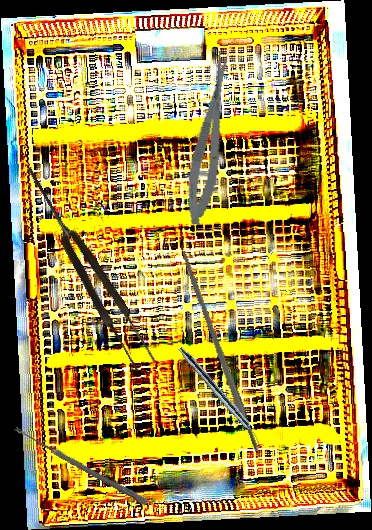Handpiece: (175, 345, 265, 446)
Micro Scissor: (179, 49, 242, 227)
Scalpel Handle: (178, 249, 261, 454)
Surgical Spoon: (12, 425, 150, 506)
Tissue Forceps: (18, 160, 158, 374)
